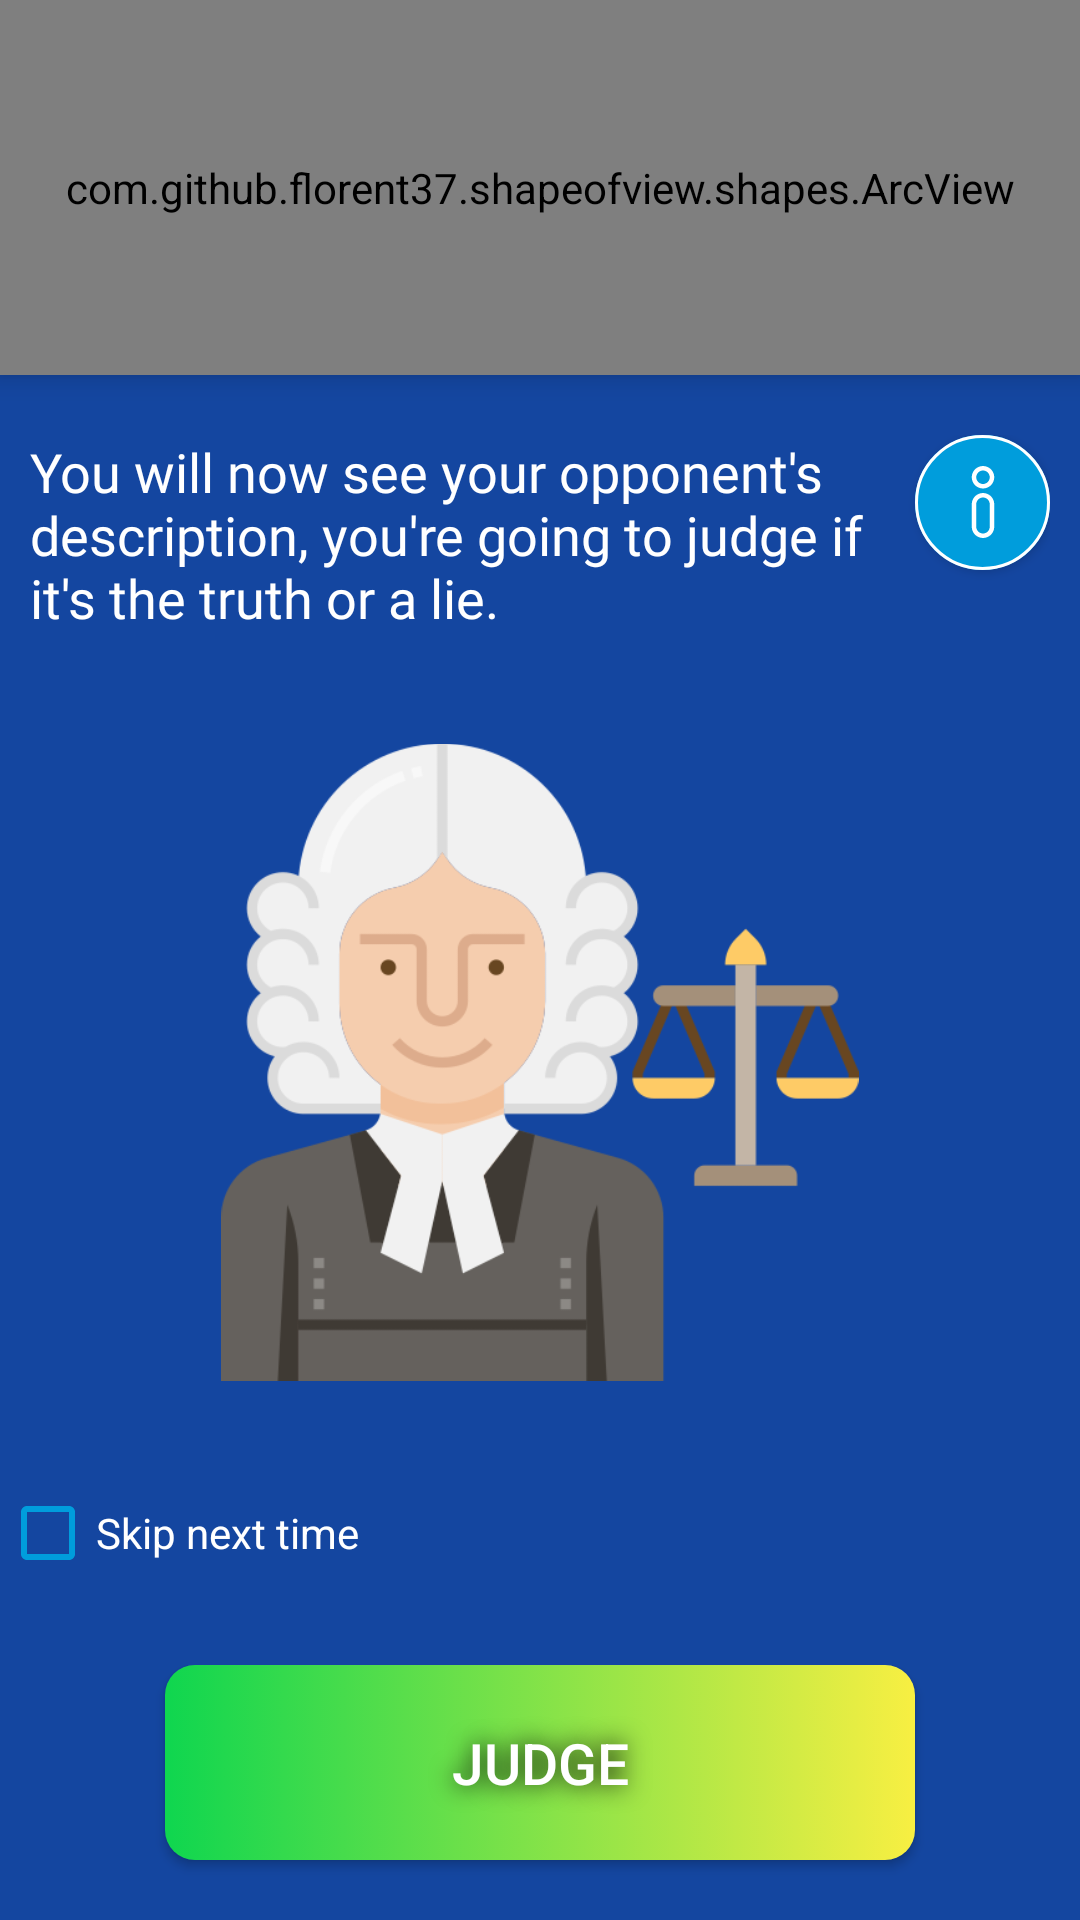

Icon click points for this 1080px x 1920px phone screenshot, format point (x, y):
info: point (982, 502)
